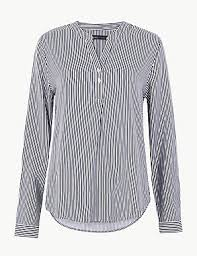C_blouse: (15, 18, 184, 246)
